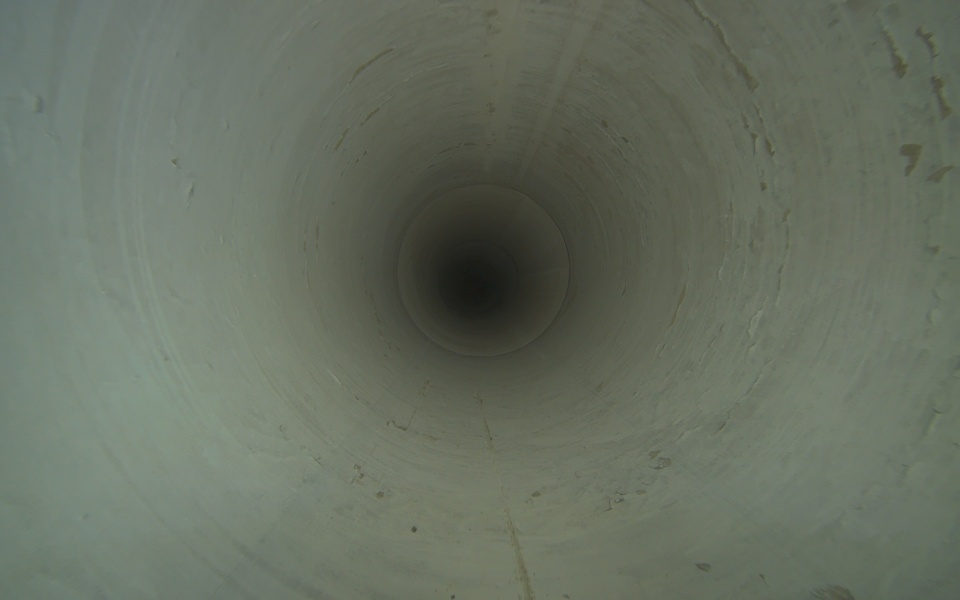circle1: (392, 180, 575, 361)
circle2: (459, 269, 491, 300)
